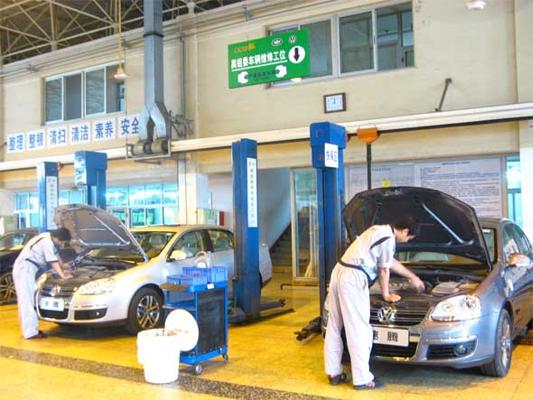person: (324, 216, 427, 390)
